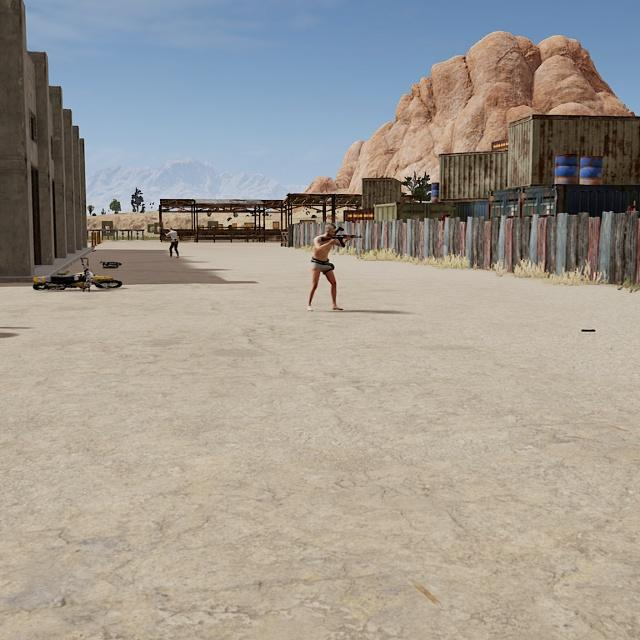head: (324, 222, 338, 238), (168, 226, 174, 232)
people: (305, 222, 344, 312), (164, 226, 181, 260)
